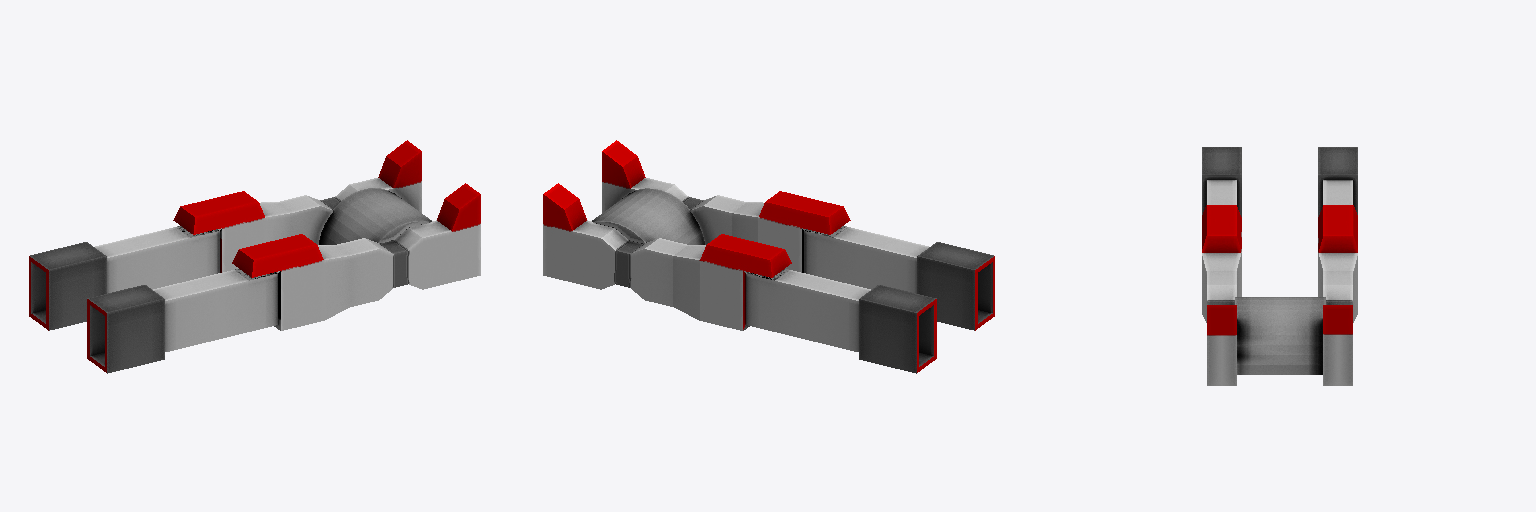
3 renders of one model, left to right at view 1: azimuth 30°, elevation 25°; view 2: azimuth 150°, elevation 25°; view 3: azimuth 270°, elevation 25°, orthographic.
Visible parts, largest first — view 1: Cylinder003; view 2: Cylinder003; view 3: Cylinder003.
Part boxes in pixels (x1,y1,x2,y2): Cylinder003: (29,140,480,373); Cylinder003: (543,140,994,373); Cylinder003: (1202,147,1357,385).
Bounding box in the file's own units: 10.54 × 2.31 × 3.81.
1 materials, 1 textured.